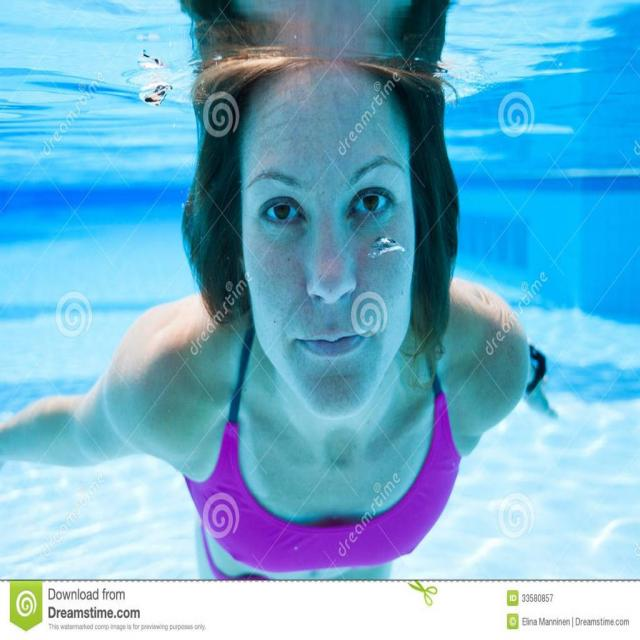nomask: (242, 98, 416, 414)
